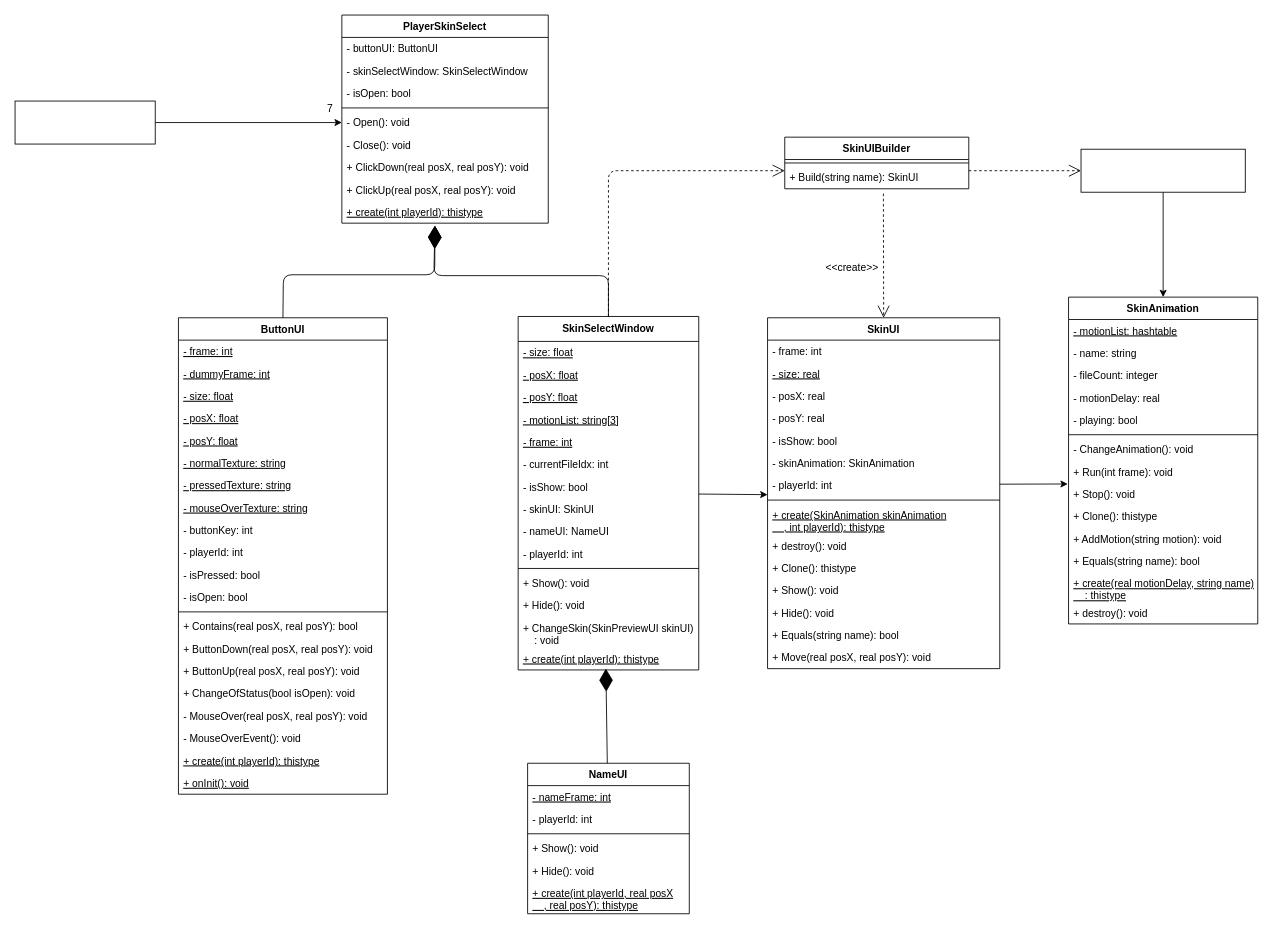
This 1273x931 diagram has some shape labels left out. The centre of each missing label's shape, as x and y in pixels:
Array< PlayerSkinSelect >: the point at 84,122
LinkedList< SkinAnimation >: the point at 1162,170
